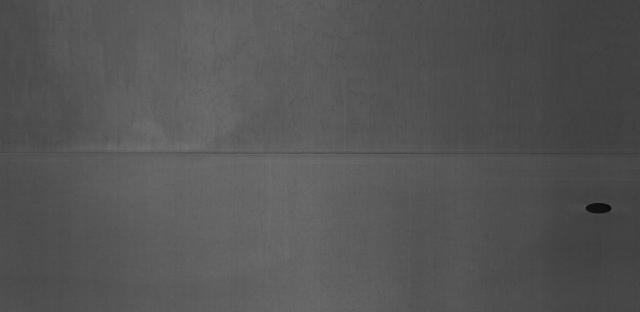punching_hole: (582, 198, 615, 218)
welding_line: (11, 140, 636, 164)
